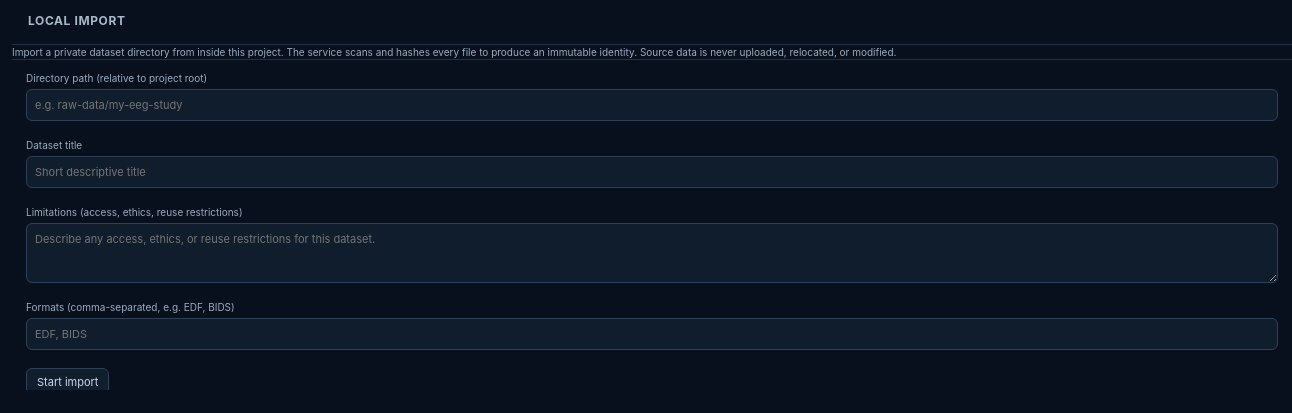
Scenario: validates complete lock response and rejects invalid response
Type "raw-data" into the field named "Directory path relative to project root" at (652, 105), box x1=26 y1=89 x2=1278 y2=121
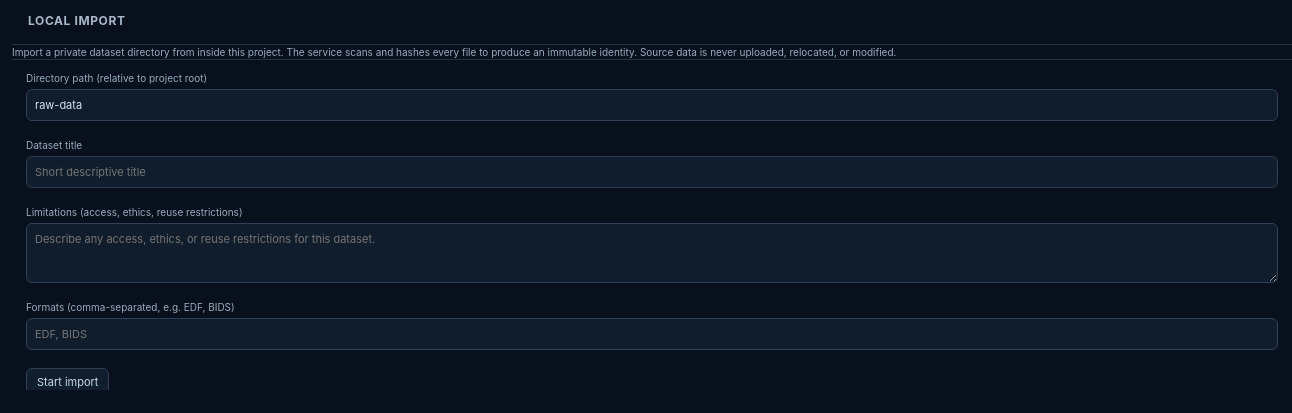
Type "Pilot" into the field labelled "Dataset title" at (652, 172), box x1=26 y1=156 x2=1278 y2=188
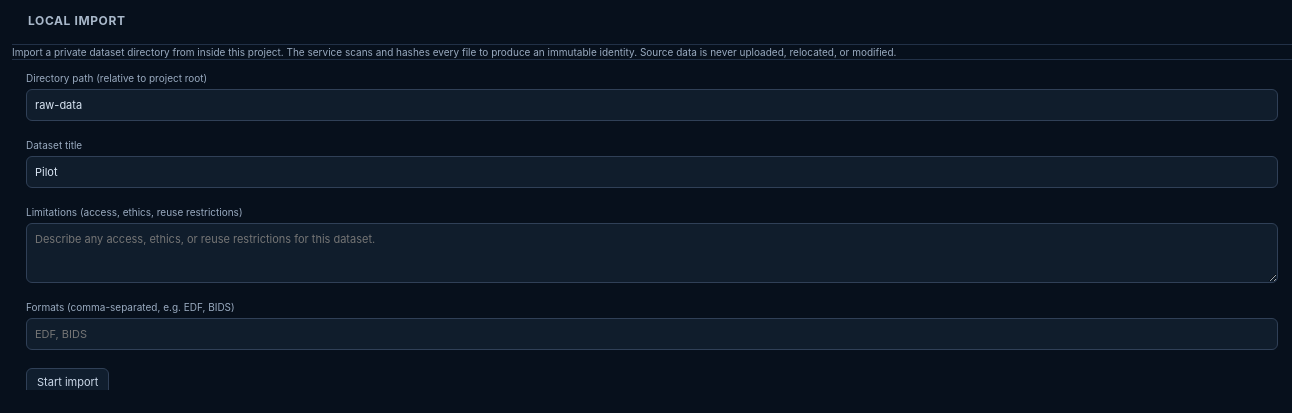
Click the button "Start import" at (68, 382), box x1=26 y1=368 x2=109 y2=396
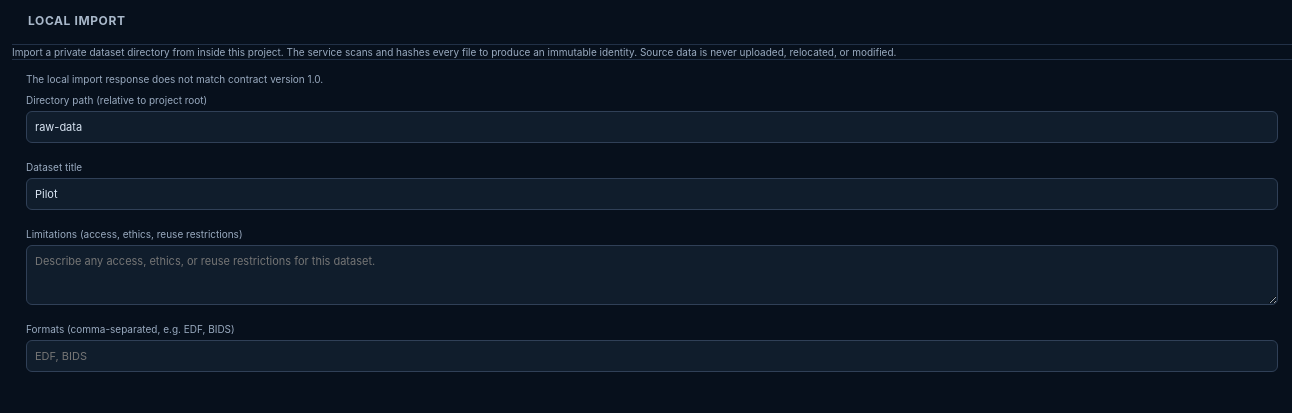
Now the text "The local import response does not match contract version 1.0." is shown, box x1=26 y1=73 x2=323 y2=85
